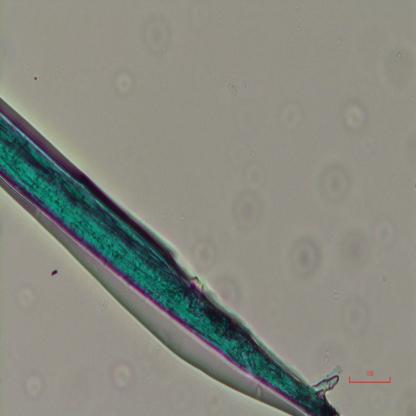Background material: (233, 155, 268, 233), (287, 226, 329, 280), (319, 160, 354, 204), (341, 293, 371, 336), (142, 13, 172, 54), (109, 358, 138, 390), (342, 99, 368, 134), (371, 217, 399, 249), (23, 369, 47, 403), (193, 237, 217, 268), (218, 76, 250, 99), (20, 282, 42, 307), (113, 71, 135, 96), (388, 45, 408, 68), (46, 264, 60, 280)
Microfibre: (0, 111, 333, 412)
